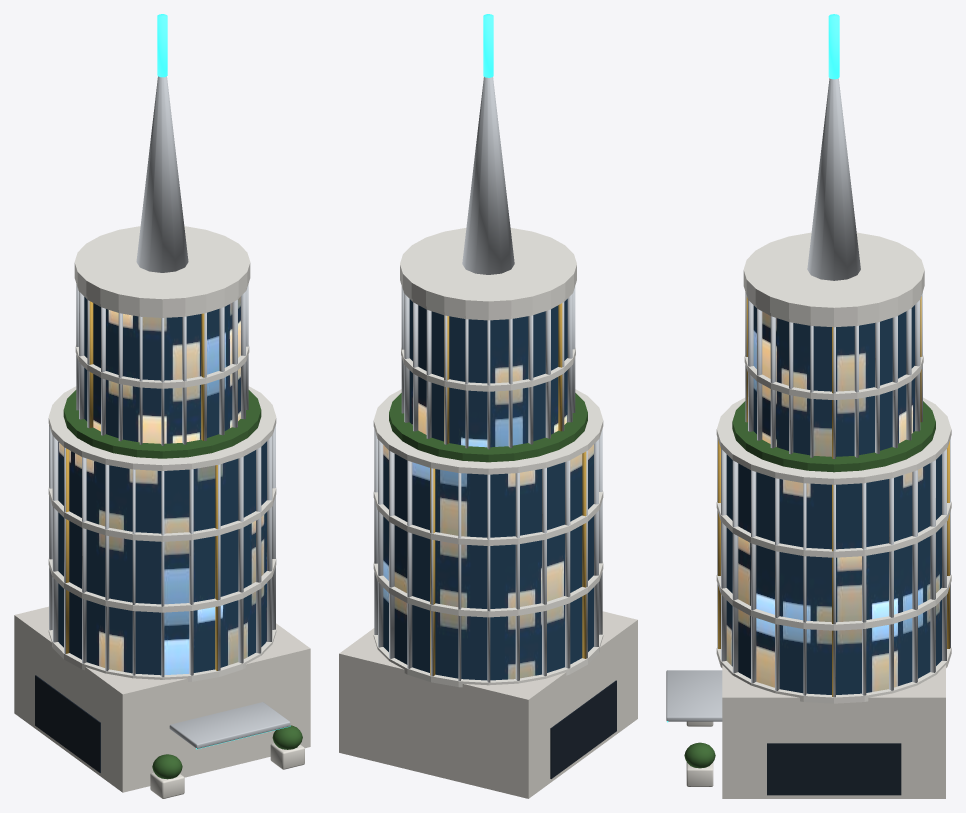
Rendered from nexus-spire.glb.
3 views of the same model, side by side, from view 1: azimuth 30°, elevation 25°; view 2: azimuth 150°, elevation 25°; view 3: azimuth 270°, elevation 25° (orthographic). The views are drawn at different scales.
Visible parts, largest first — view 1: Building; view 2: Building; view 3: Building.
Part boxes in pixels (x1,y1,x2,y2): Building: [14, 14, 310, 798]; Building: [339, 14, 637, 798]; Building: [666, 14, 951, 798].
Bounding box in the file's own units: 10.5 × 36.3 × 12.75.
